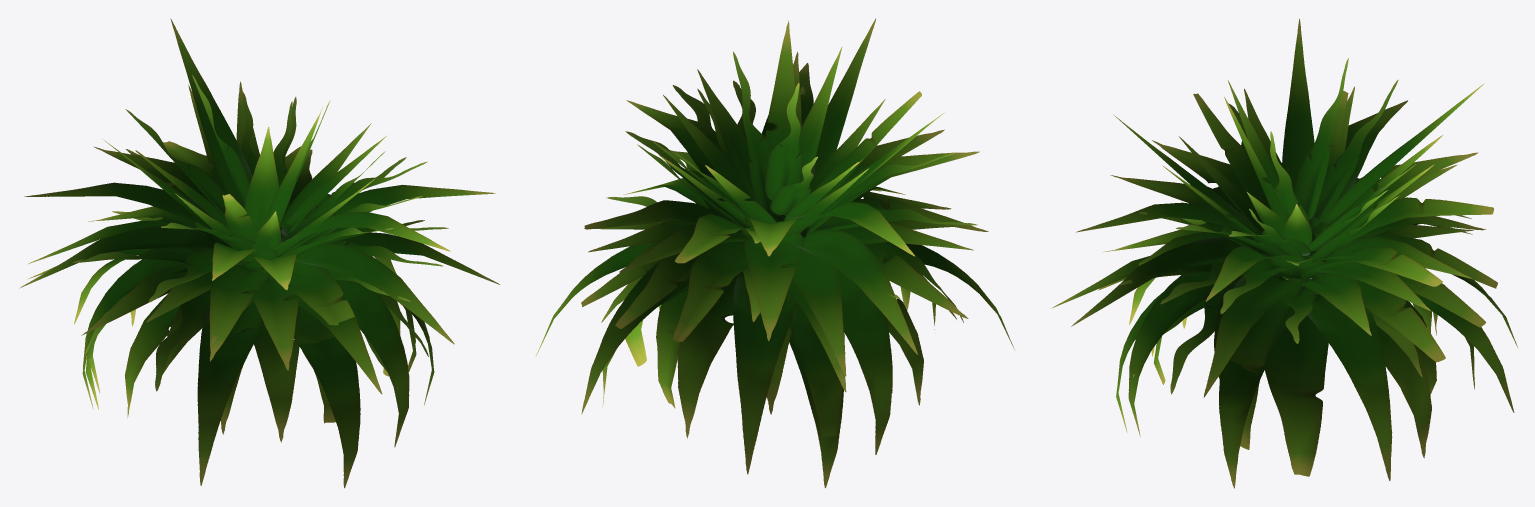
File: YuccaLeaves 3.fbx
3 renders of one model, left to right at view 1: azimuth 30°, elevation 25°; view 2: azimuth 150°, elevation 25°; view 3: azimuth 270°, elevation 25°, orthographic. The views are drawn at different scales.
Visible parts, largest first — view 1: low_Yucca; view 2: low_Yucca; view 3: low_Yucca.
Boxes of the visible parts, left/top/right/bottom form: low_Yucca: left=19, top=18, right=499, bottom=488; low_Yucca: left=535, top=18, right=1014, bottom=488; low_Yucca: left=1051, top=19, right=1517, bottom=488.
Bounding box in the file's own units: 2.37 × 2.17 × 2.47.
